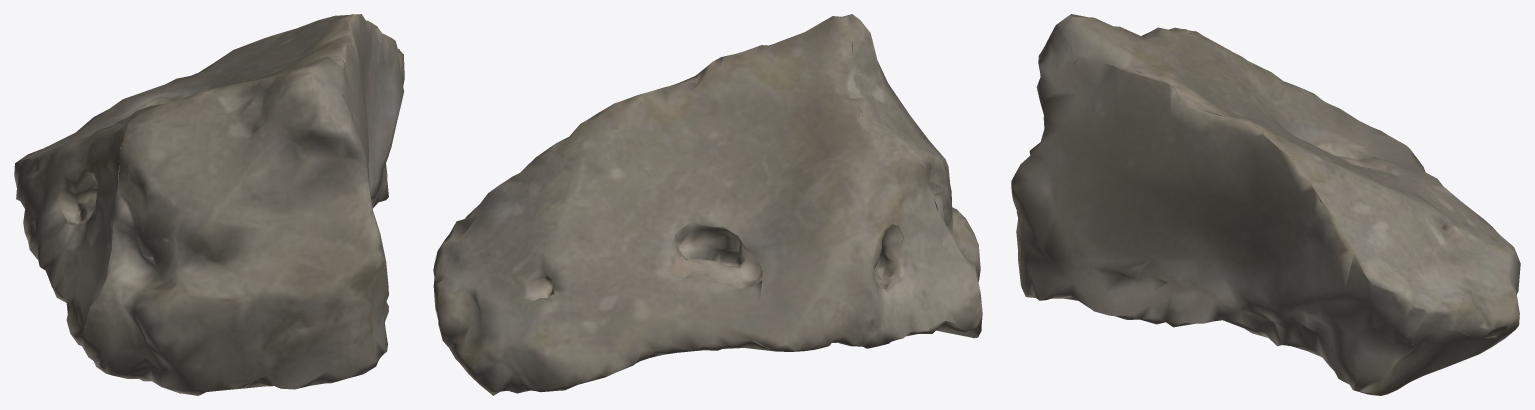
Rendered from rock_2.glb.
3 views of the same model, side by side, from view 1: azimuth 30°, elevation 25°; view 2: azimuth 150°, elevation 25°; view 3: azimuth 270°, elevation 25° (orthographic). The views are drawn at different scales.
Parts seen in each view (by area): view 1: SCENERY_rock_2; view 2: SCENERY_rock_2; view 3: SCENERY_rock_2.
Boxes of the visible parts, x1=… form: SCENERY_rock_2: x1=14, y1=14, x2=404, y2=395; SCENERY_rock_2: x1=433, y1=14, x2=982, y2=395; SCENERY_rock_2: x1=1011, y1=14, x2=1520, y2=395.
Bounding box in the file's own units: 0.5609 × 0.36 × 0.6.
1 material, 1 textured.
